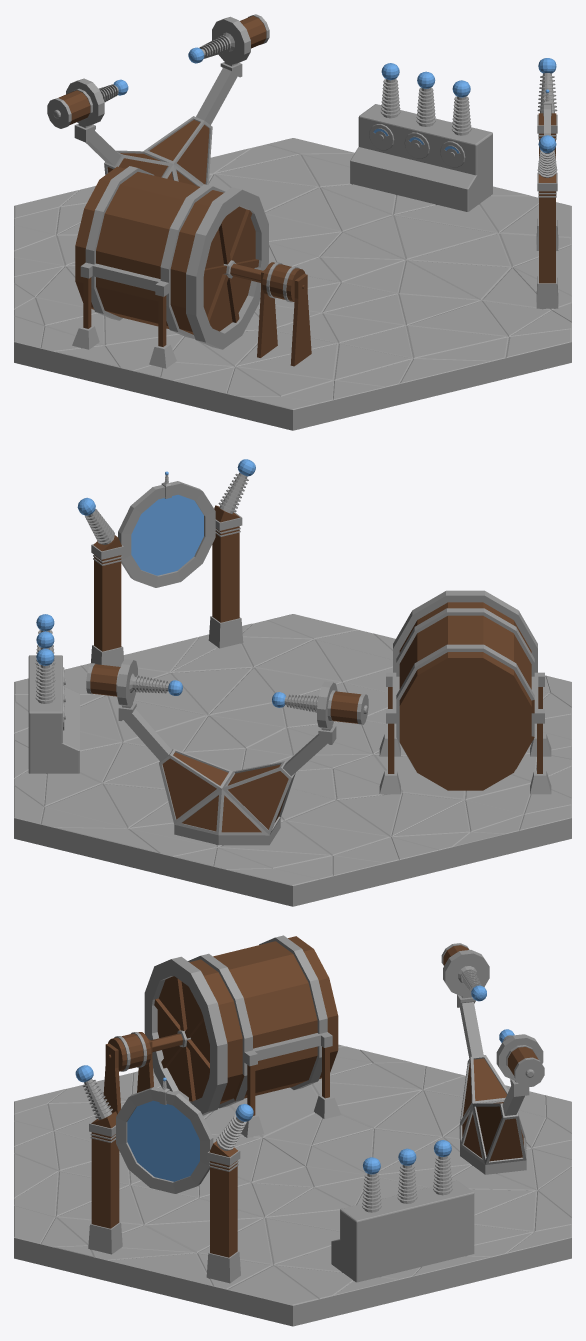
Rendered from DwarfWorkshop.fbx.
The picture shows the model from 3 angles, top to bottom: view 1: azimuth 30°, elevation 25°; view 2: azimuth 150°, elevation 25°; view 3: azimuth 270°, elevation 25°; orthographic projection.
Parts seen in each view (by area): view 1: DwarfWorkshop; view 2: DwarfWorkshop; view 3: DwarfWorkshop.
Boxes of the visible parts, box(x1,y1,x2,y2) form: DwarfWorkshop: box(14, 14, 571, 430); DwarfWorkshop: box(14, 459, 571, 906); DwarfWorkshop: box(14, 935, 571, 1326).
Size of the model in its own units: 1132 by 980 by 398.
